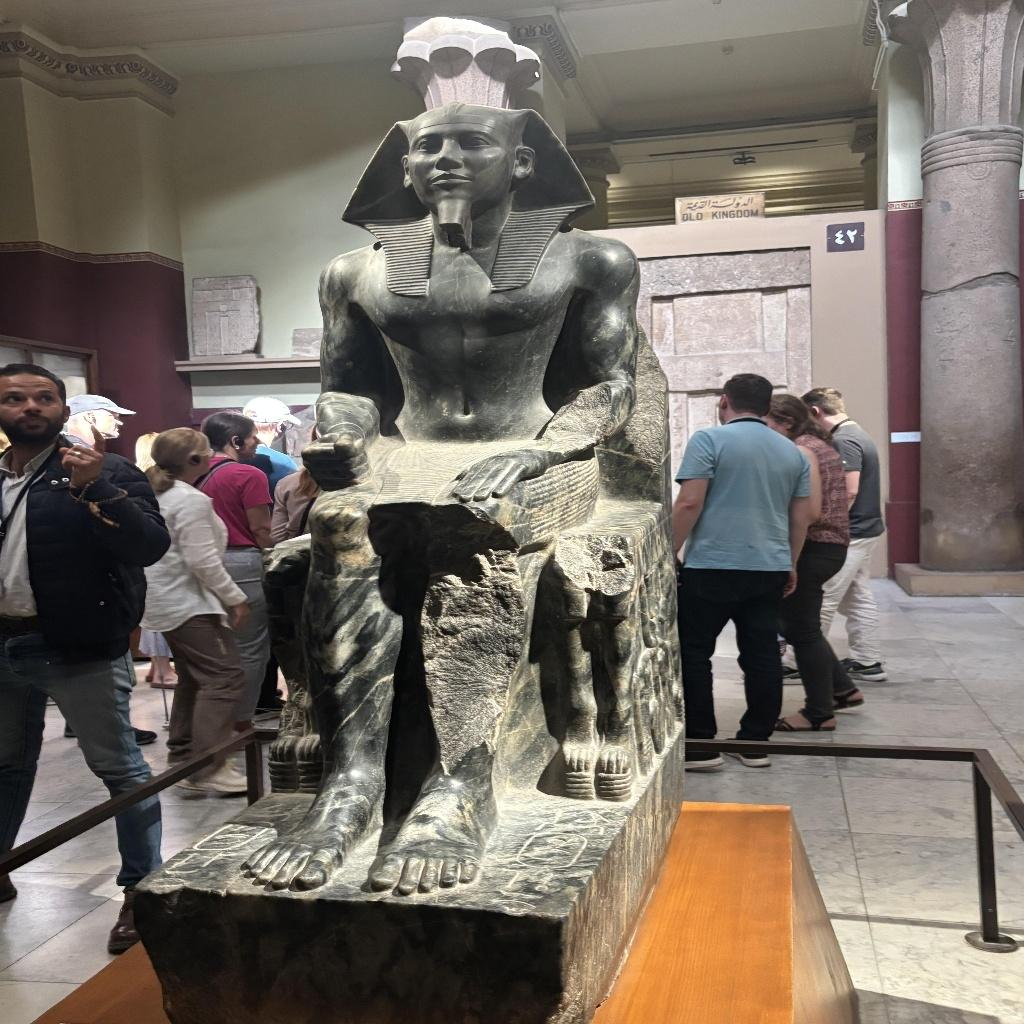Statue of Khafre: (242, 106, 670, 892)
